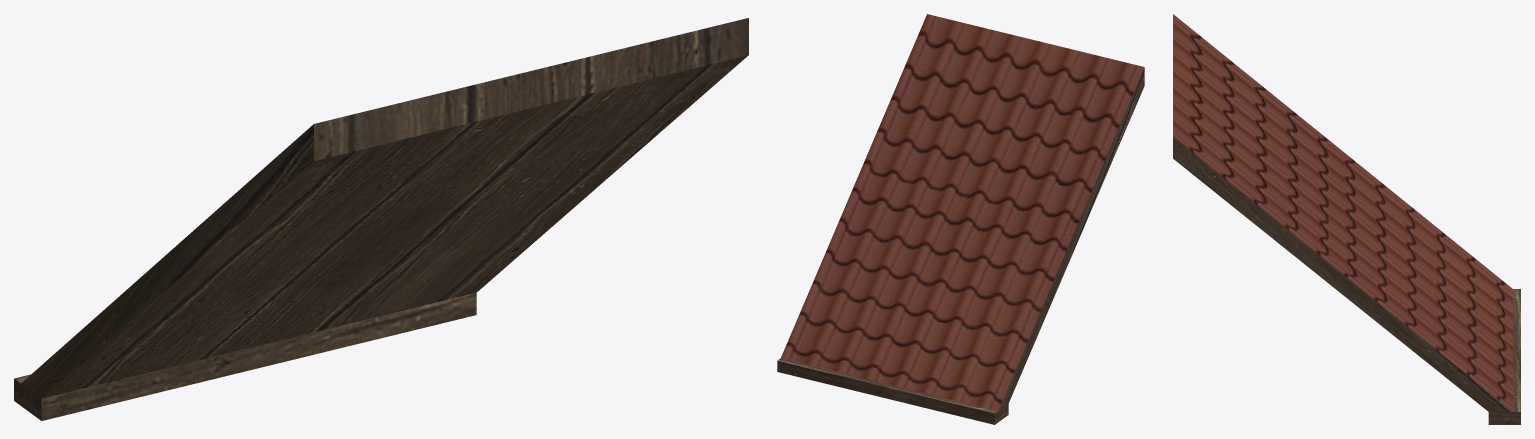
File: ARC1010387.fbx
3 renders of one model, left to right at view 1: azimuth 30°, elevation 25°; view 2: azimuth 150°, elevation 25°; view 3: azimuth 270°, elevation 25°, orthographic. The views are drawn at different scales.
Parts seen in each view (by area): view 1: smARC1010387; view 2: smARC1010387; view 3: smARC1010387.
Part boxes in pixels (x1,y1,x2,y2): smARC1010387: (14,18,748,420); smARC1010387: (777,14,1144,424); smARC1010387: (1173,14,1520,424).
Bounding box in the file's own units: 268 × 293 × 320.
1 material, 1 textured.
